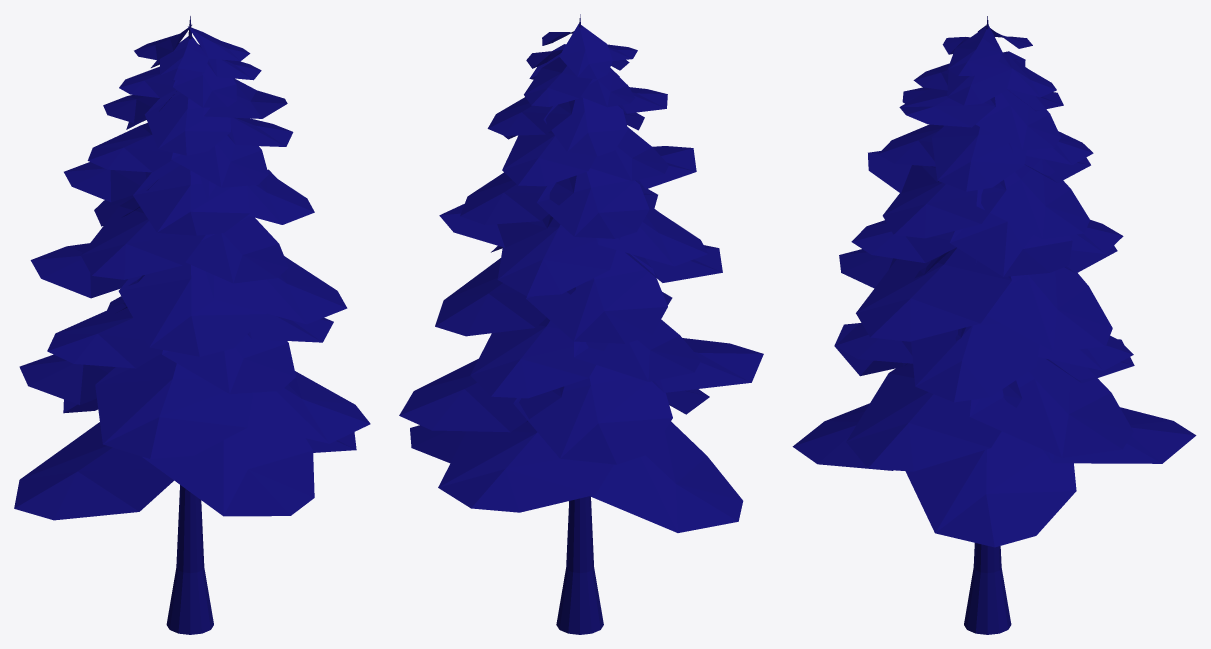
Rendered from SM_FOL_Pine_Tree_01_A.obj.
3 views of the same model, side by side, from view 1: azimuth 30°, elevation 25°; view 2: azimuth 150°, elevation 25°; view 3: azimuth 270°, elevation 25° (orthographic).
Parts seen in each view (by area): view 1: SM_FOL_Pine_Tree_01_A; view 2: SM_FOL_Pine_Tree_01_A; view 3: SM_FOL_Pine_Tree_01_A.
Part boxes in pixels (bbox=[...]): SM_FOL_Pine_Tree_01_A: bbox=[14, 16, 370, 634]; SM_FOL_Pine_Tree_01_A: bbox=[399, 14, 763, 634]; SM_FOL_Pine_Tree_01_A: bbox=[792, 16, 1196, 634].
Bounding box in the file's own units: 541 × 945 × 567.
